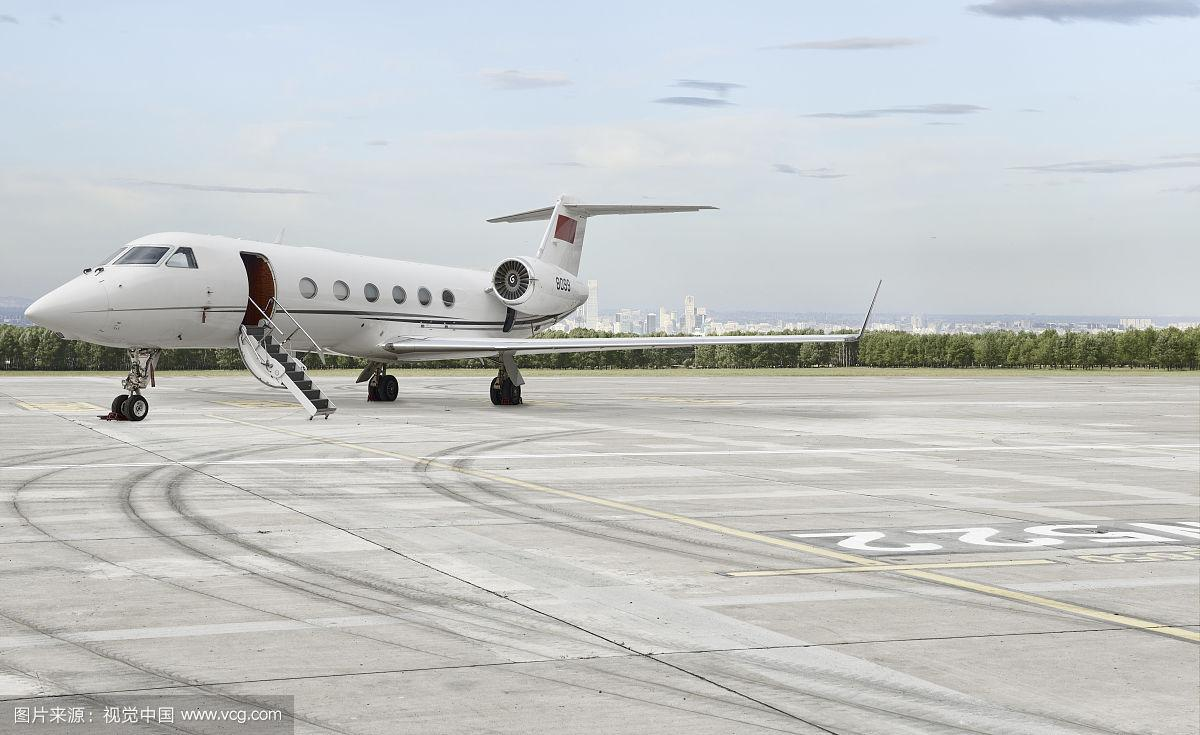airplane: (23, 190, 888, 414)
